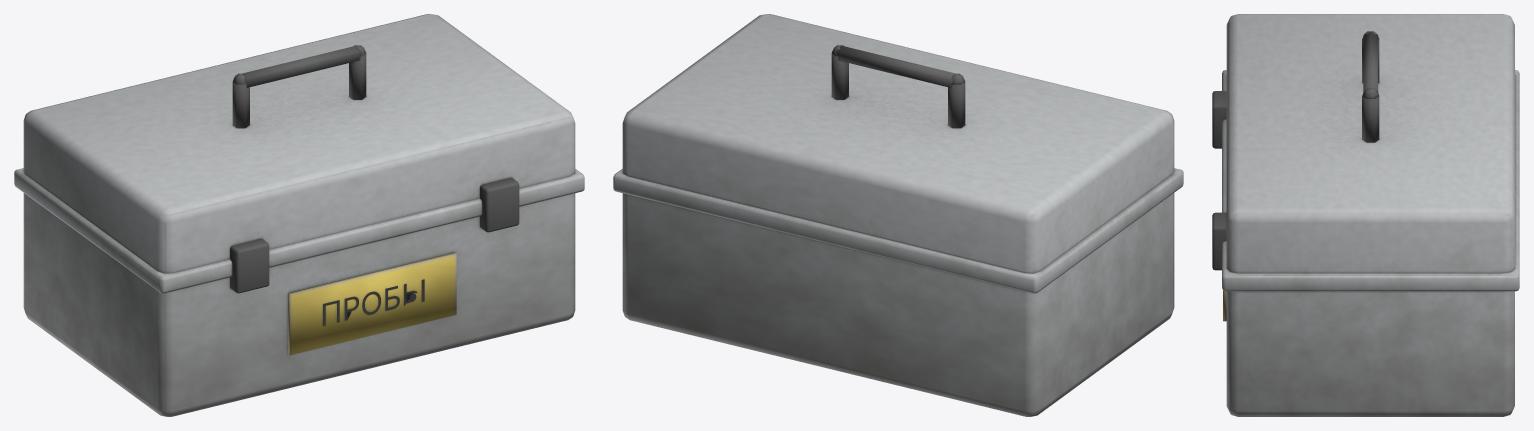
Rendered from sample_case.glb.
3 renders of one model, left to right at view 1: azimuth 30°, elevation 25°; view 2: azimuth 150°, elevation 25°; view 3: azimuth 270°, elevation 25°, orthographic.
Parts seen in each view (by area): view 1: sample_case; view 2: sample_case; view 3: sample_case.
Part boxes in pixels (bbox=[...]): sample_case: bbox=[14, 14, 584, 416]; sample_case: bbox=[613, 14, 1183, 416]; sample_case: bbox=[1212, 14, 1519, 416].
Bounding box in the file's own units: 0.51 × 0.299 × 0.32.
1 material, 1 textured.
